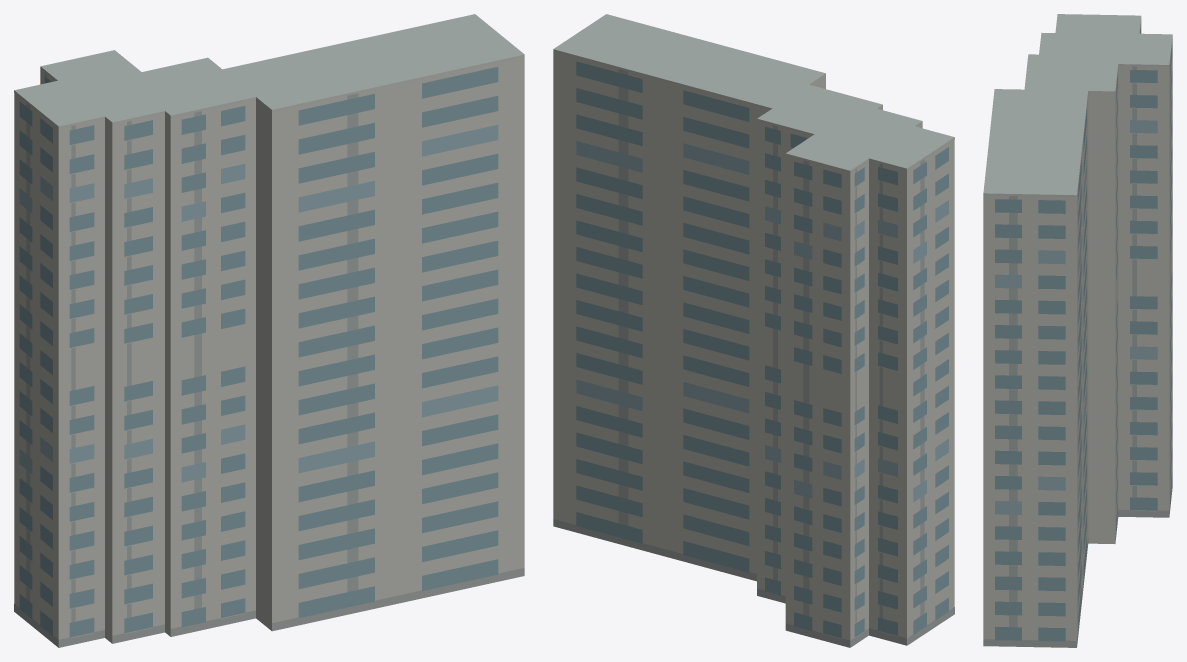
Rendered from residential-d0c4e32e-431d-43fe-a389-103cc879b71e.glb.
3 views of the same model, side by side, from view 1: azimuth 30°, elevation 25°; view 2: azimuth 150°, elevation 25°; view 3: azimuth 270°, elevation 25° (orthographic). The views are drawn at different scales.
Visible parts, largest first — view 1: residential-d0c4e32e-431d-43fe-a389-103cc879b71e.tmp; view 2: residential-d0c4e32e-431d-43fe-a389-103cc879b71e.tmp; view 3: residential-d0c4e32e-431d-43fe-a389-103cc879b71e.tmp.
Part boxes in pixels (x1,y1,x2,y2): residential-d0c4e32e-431d-43fe-a389-103cc879b71e.tmp: (14,14,524,647); residential-d0c4e32e-431d-43fe-a389-103cc879b71e.tmp: (553,14,954,647); residential-d0c4e32e-431d-43fe-a389-103cc879b71e.tmp: (983,14,1172,647).
Bounding box in the file's own units: 47.13 × 54.9 × 20.81.
